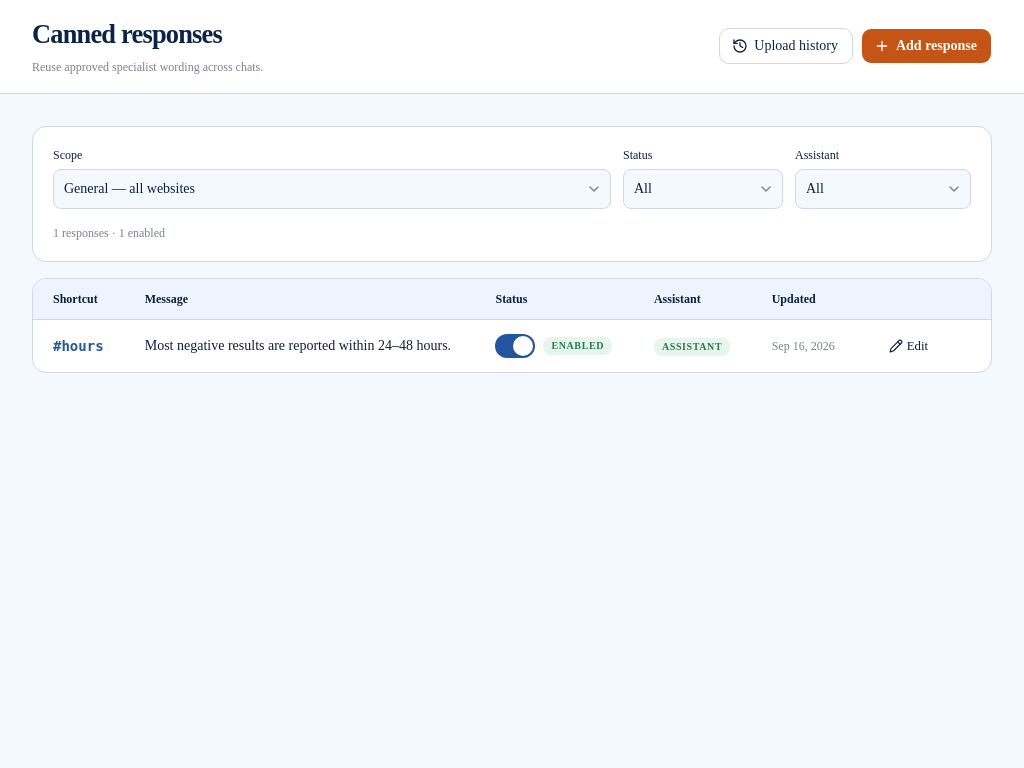
Scenario: canned responses console editor › keeps Save response still while the message field can scroll
The image size is (1024, 768).
What coordinates should you click on to do the following:
click the button "Add response"
I would click on:
 (926, 46)
Its box is [861,28,992,64].
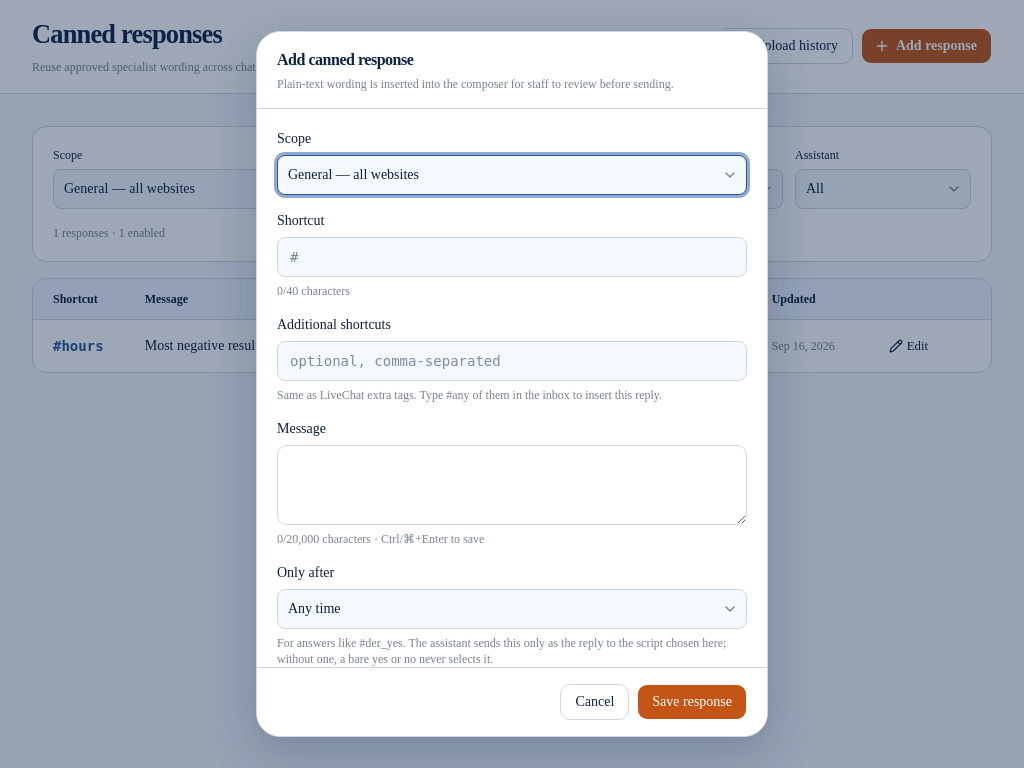
Expected: the element named "Message" is shown, [257,109,767,667]
